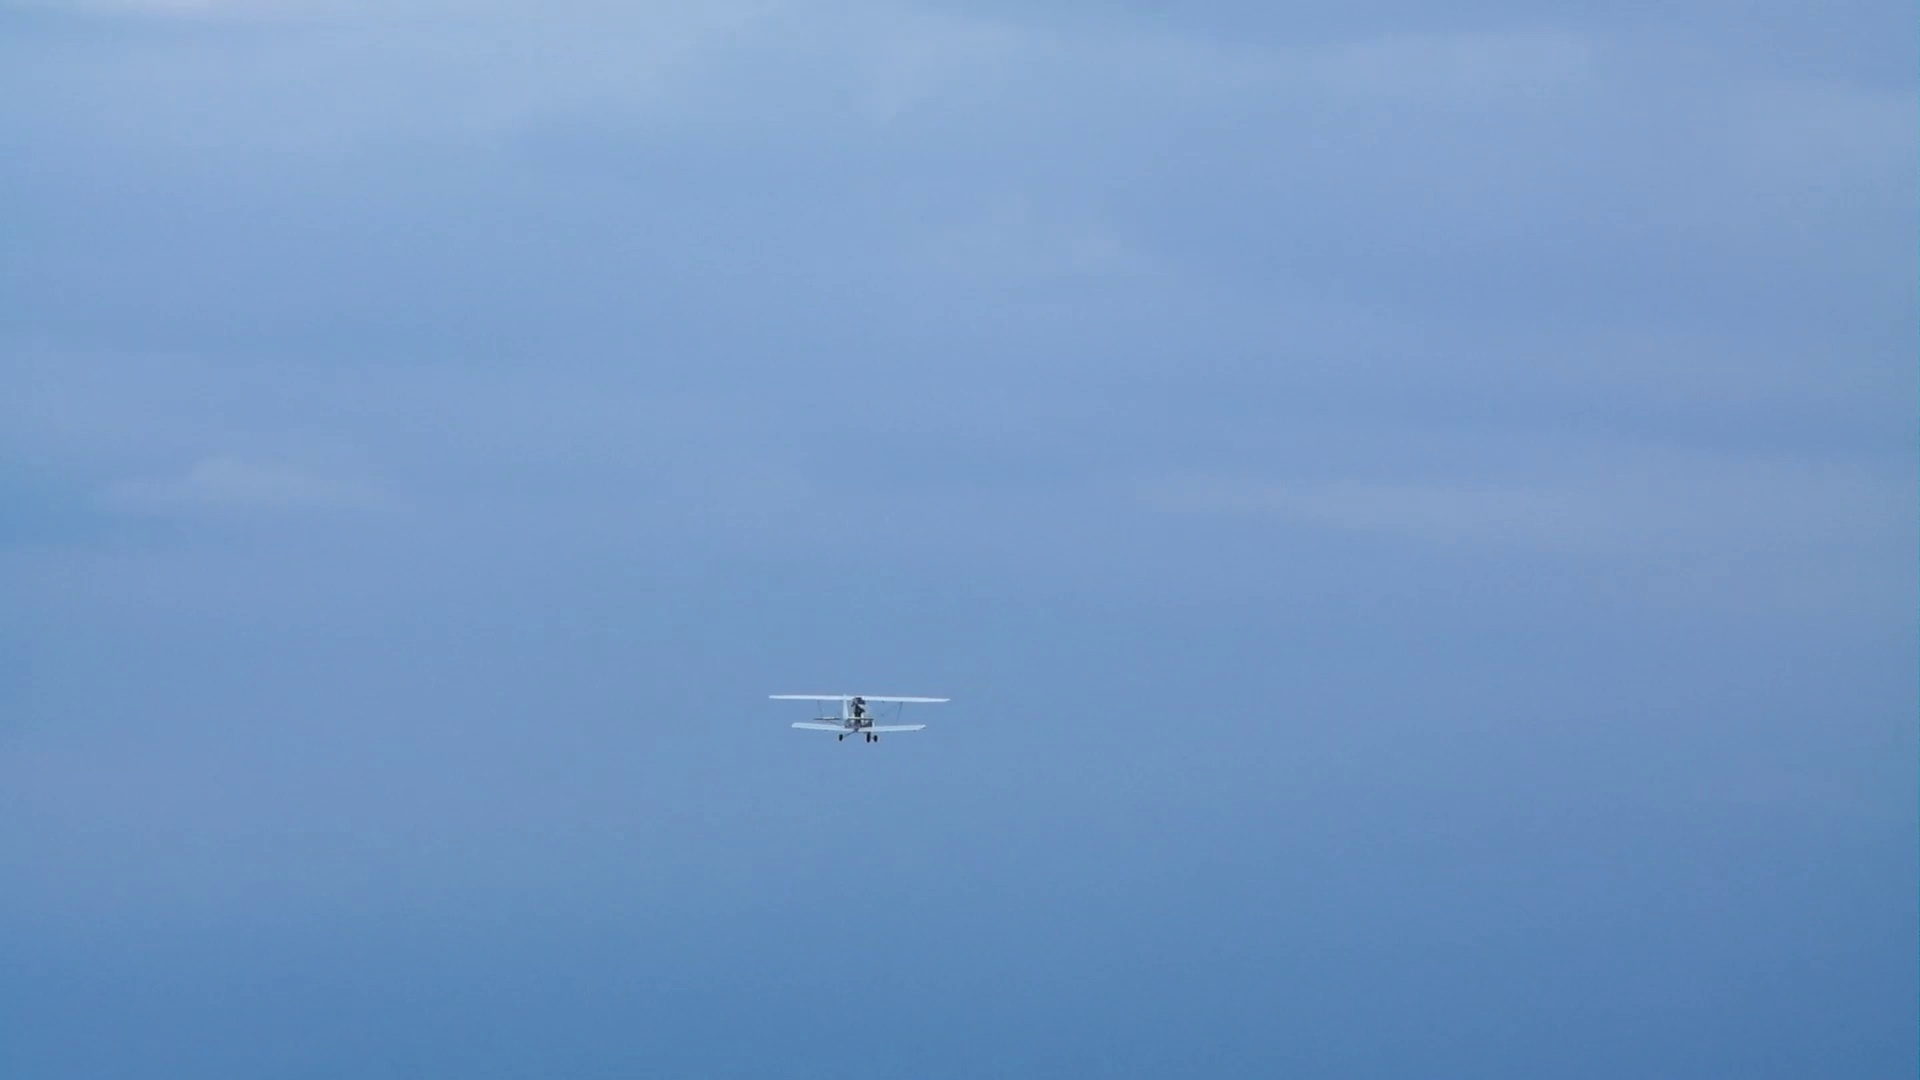plane: (770, 690, 952, 742)
